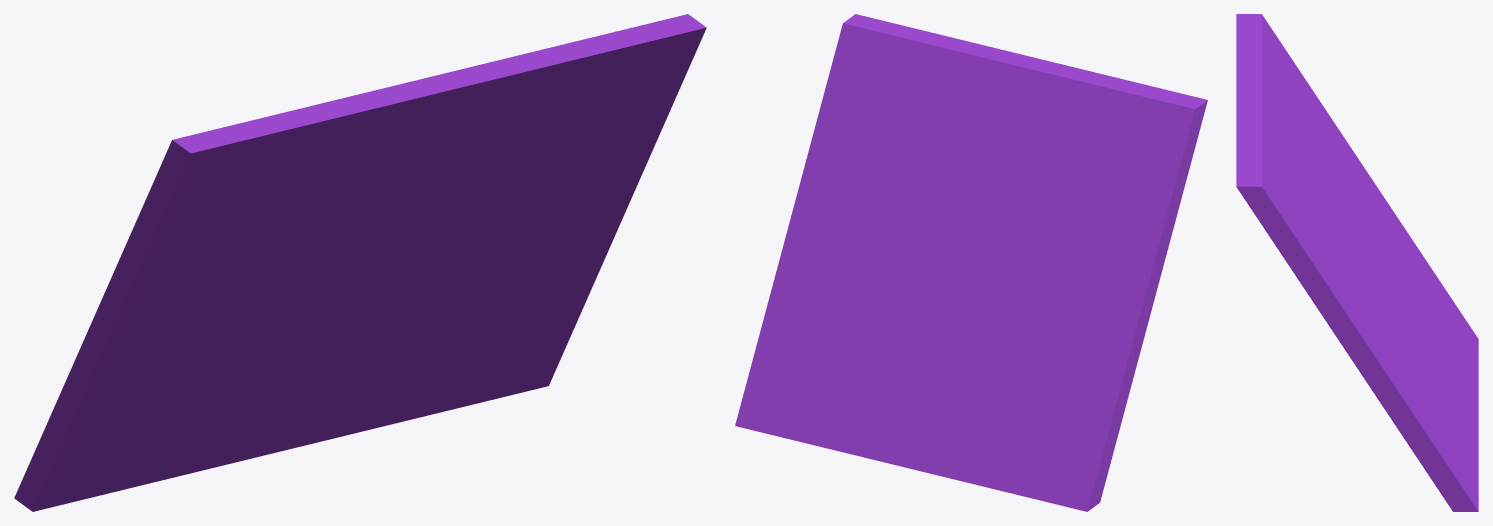
File: Window_25_chunks.fbx
3 views of the same model, side by side, from view 1: azimuth 30°, elevation 25°; view 2: azimuth 150°, elevation 25°; view 3: azimuth 270°, elevation 25° (orthographic). The views are drawn at different scales.
Parts seen in each view (by area): view 1: Window_25_1, Window_25_10, Window_25_8, Window_25_2, Window_25_9, Window_25_29, Window_25_16, Window_25_23, Window_25_3, Window_25_13, Window_25_26, Window_25_15 (+16 smaller); view 2: Window_25_8, Window_25_6, Window_25_13, Window_25_5, Window_25_4, Window_25_29, Window_25_26, Window_25_16, Window_25_30, Window_25_15, Window_25_18, Window_25_14 (+15 smaller); view 3: Window_25_8, Window_25_13, Window_25_29, Window_25_10, Window_25_6, Window_25_30, Window_25_5, Window_25_26, Window_25_4, Window_25_23, Window_25_15, Window_25_16 (+15 smaller).
Part boxes in pixels (x1,y1,x2,y2): Window_25_1: (102,197,277,354); Window_25_10: (490,14,706,202); Window_25_8: (420,19,667,184); Window_25_2: (46,307,314,468); Window_25_9: (371,170,500,293); Window_25_29: (447,217,622,320); Window_25_16: (14,425,215,511); Window_25_23: (164,105,356,191); Window_25_3: (240,220,377,313); Window_25_13: (400,316,577,422); Window_25_26: (316,66,472,167); Window_25_15: (199,378,319,464); Window_25_8: (856,26,1016,189); Window_25_6: (959,61,1065,283); Window_25_13: (735,324,853,454); Window_25_5: (1025,152,1193,272); Window_25_4: (1049,250,1155,397); Window_25_29: (760,226,881,332); Window_25_26: (990,53,1100,160); Window_25_16: (998,432,1112,511); Window_25_30: (788,130,888,226); Window_25_15: (879,372,997,466); Window_25_18: (993,375,1110,447); Window_25_14: (852,339,920,460); Window_25_8: (1236,107,1337,248); Window_25_13: (1414,398,1478,511); Window_25_29: (1351,309,1427,452); Window_25_10: (1236,161,1324,301); Window_25_6: (1263,116,1374,261); Window_25_30: (1313,248,1371,358); Window_25_5: (1285,49,1364,226); Window_25_26: (1236,62,1304,134); Window_25_4: (1341,134,1417,247); Window_25_23: (1236,14,1275,76); Window_25_15: (1421,314,1478,440); Window_25_16: (1444,288,1478,382).
Size of the model in its own units: 1059 by 930 by 628.
